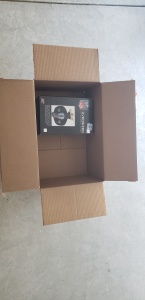innerbox: (36, 81, 104, 183)
outerbox: (1, 44, 136, 224)
product: (39, 96, 95, 135)
